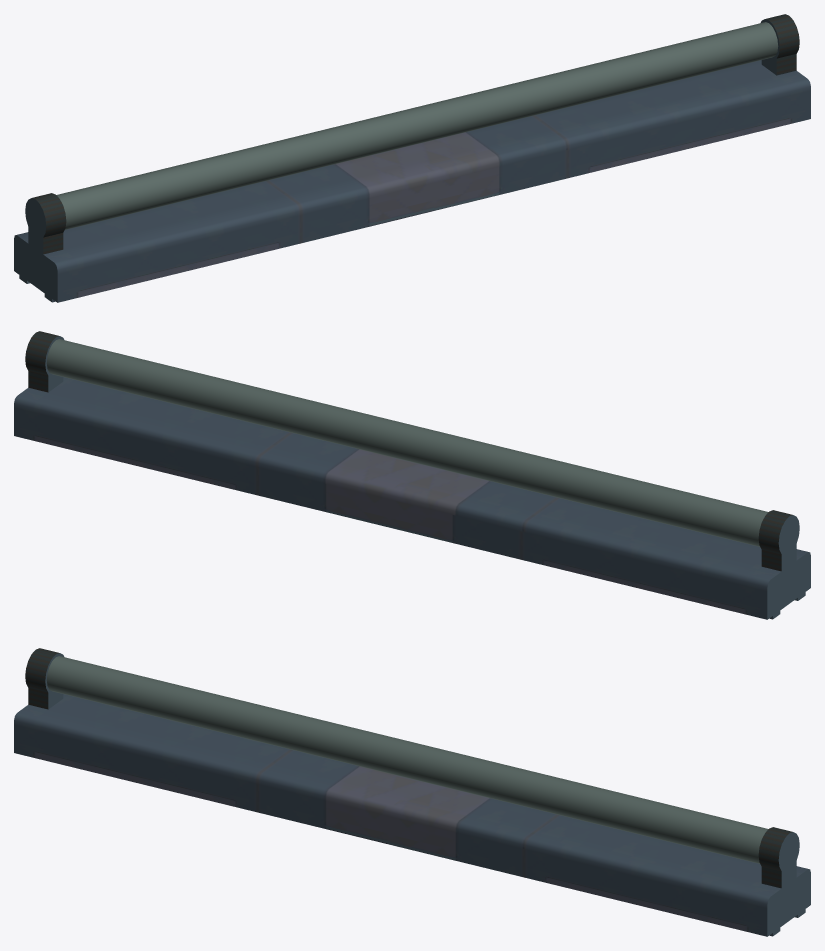
File: mdlFluorescentLight.fbx
The picture shows the model from 3 angles, top to bottom: view 1: azimuth 30°, elevation 25°; view 2: azimuth 150°, elevation 25°; view 3: azimuth 330°, elevation 25°; orthographic projection.
Visible parts, largest first — view 1: fluorescent_light, fluorescent_lightbulb; view 2: fluorescent_light, fluorescent_lightbulb; view 3: fluorescent_light, fluorescent_lightbulb.
Boxes of the visible parts, x1=… form: fluorescent_light: x1=14, y1=14, x2=810, y2=302; fluorescent_lightbulb: x1=56, y1=22, x2=778, y2=229; fluorescent_light: x1=14, y1=331, x2=810, y2=619; fluorescent_lightbulb: x1=46, y1=339, x2=768, y2=546; fluorescent_light: x1=14, y1=648, x2=810, y2=936; fluorescent_lightbulb: x1=46, y1=656, x2=768, y2=863.
Size of the model in its own units: 6.1 by 0.7054 by 0.6104.
